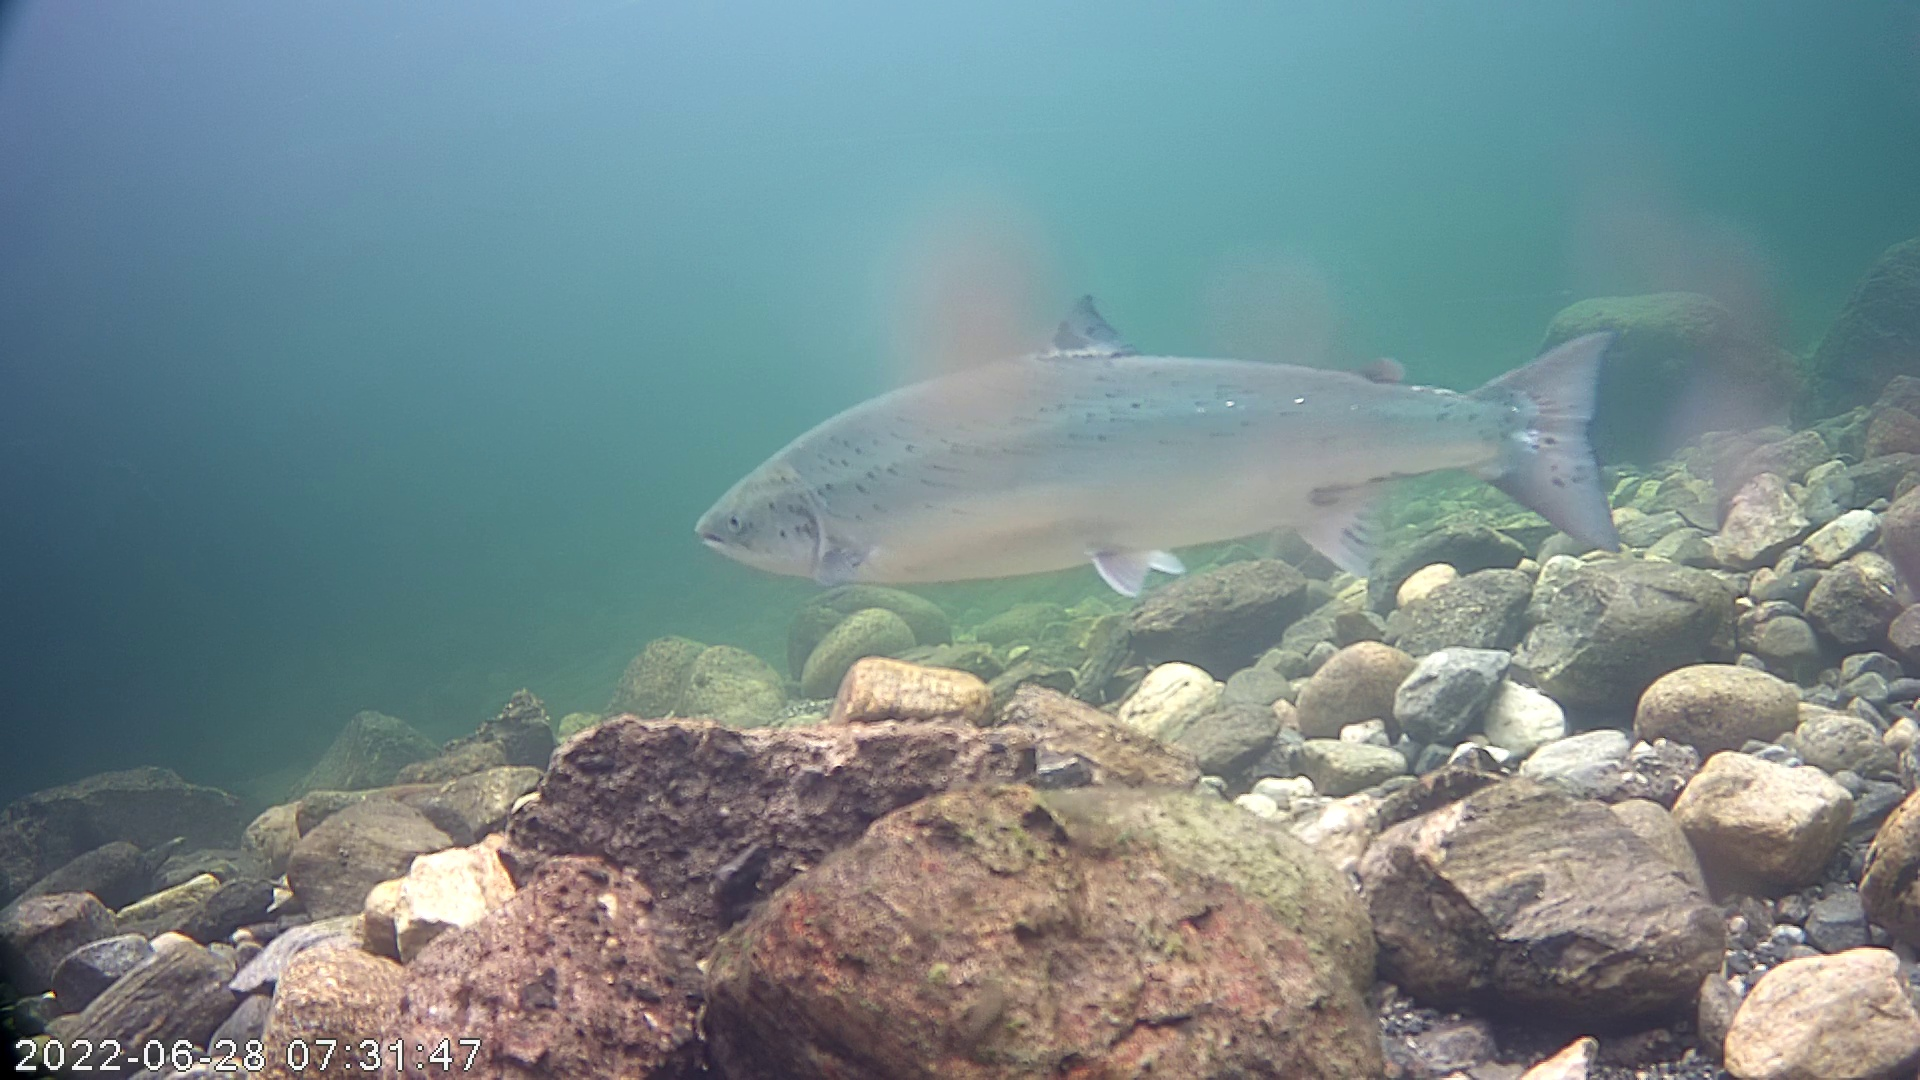salmon: (694, 218, 1642, 657)
